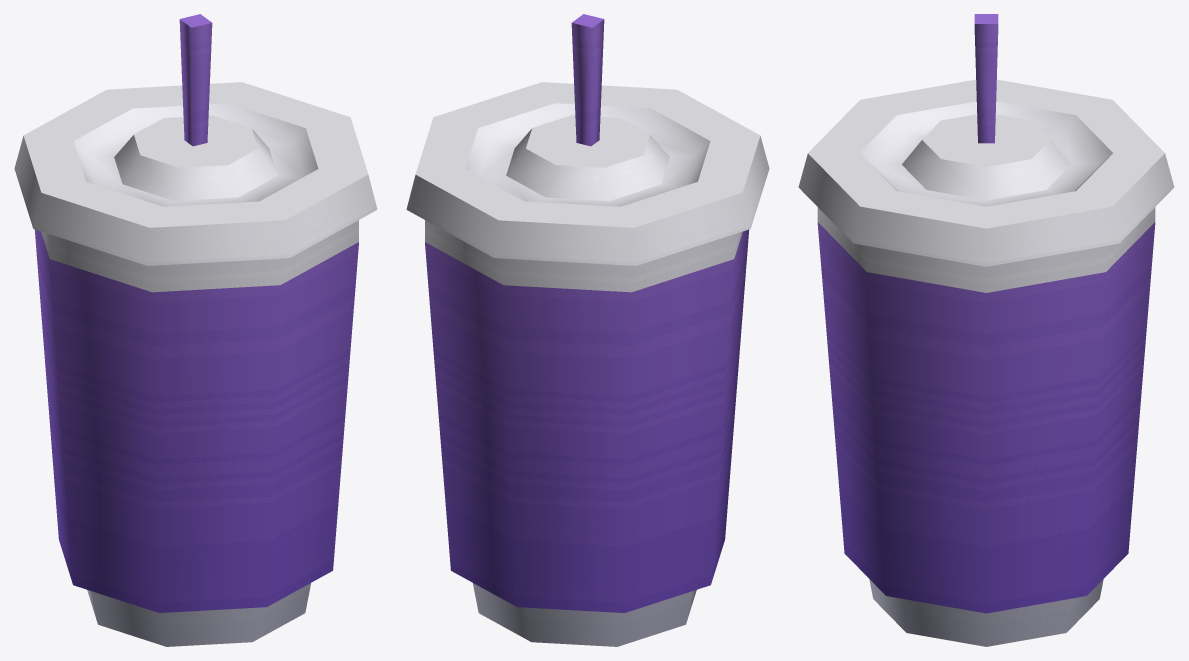
Rendered from soda.glb.
3 views of the same model, side by side, from view 1: azimuth 30°, elevation 25°; view 2: azimuth 150°, elevation 25°; view 3: azimuth 270°, elevation 25° (orthographic).
Visible parts, largest first — view 1: soda; view 2: soda; view 3: soda.
Boxes of the visible parts, bbox=[...] form: soda: bbox=[14, 14, 377, 646]; soda: bbox=[406, 14, 769, 646]; soda: bbox=[798, 14, 1174, 646].
Bounding box in the file's own units: 0.2541 × 0.4324 × 0.2541.
1 material, 1 textured.
